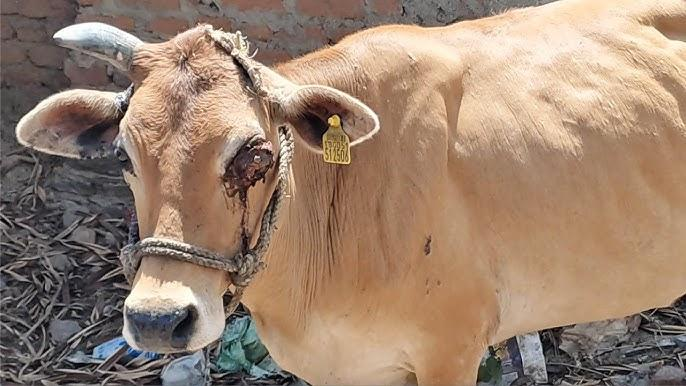infection: (167, 114, 327, 247)
